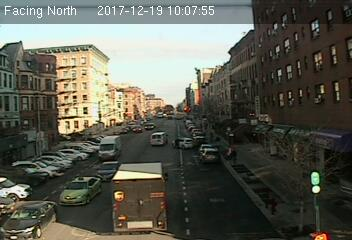car: (2, 199, 59, 240), (58, 175, 104, 206), (96, 162, 119, 180), (174, 137, 194, 150), (201, 148, 219, 162)
truck: (99, 135, 120, 164), (150, 131, 167, 146)
ups: (109, 162, 171, 233)
